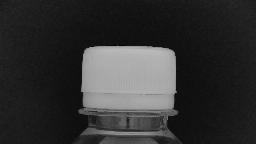Good Cap: (74, 42, 184, 122)
